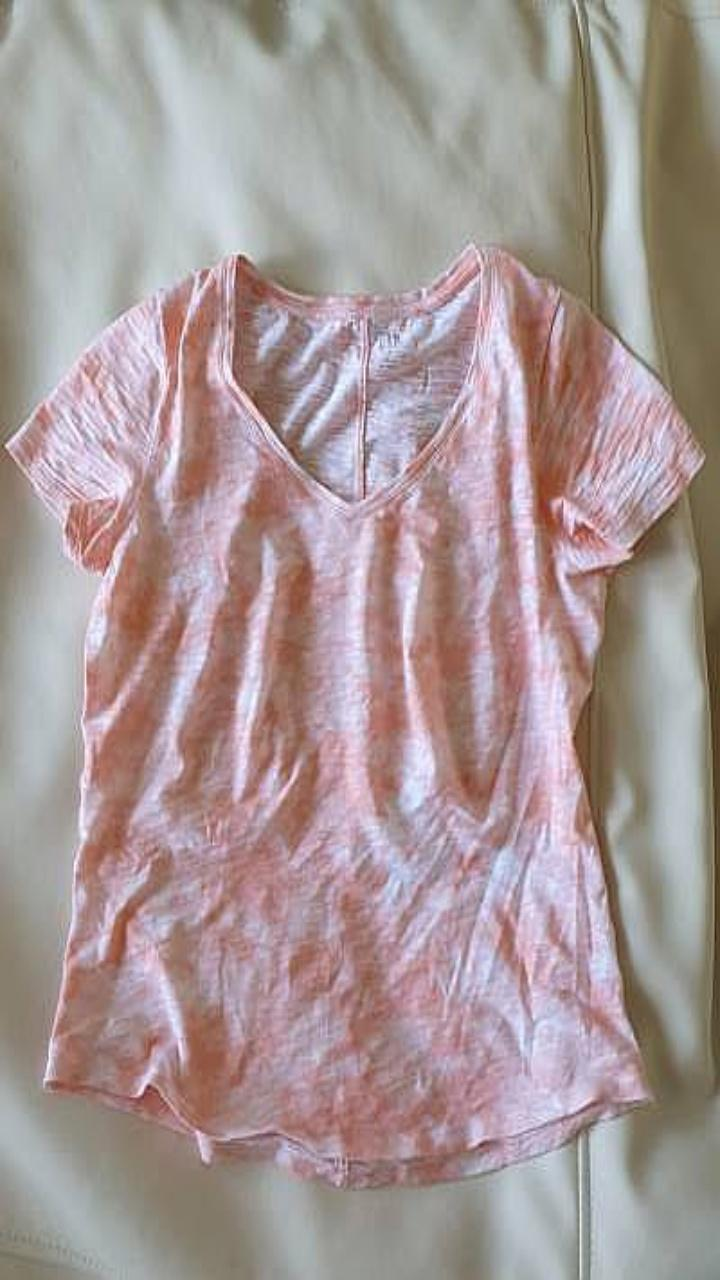T-Shirt: (6, 241, 704, 1188)
